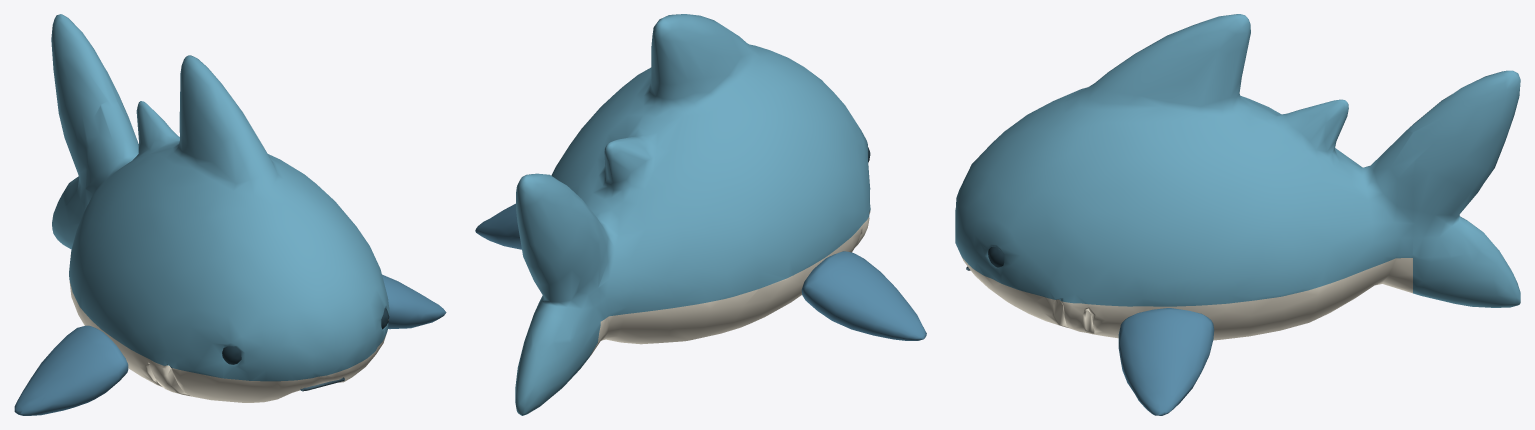
Rendered from shark.glb.
3 renders of one model, left to right at view 1: azimuth 30°, elevation 25°; view 2: azimuth 150°, elevation 25°; view 3: azimuth 270°, elevation 25°, orthographic. The views are drawn at different scales.
Visible parts, largest first — view 1: pet-body, pet-fins, pet-belly; view 2: pet-body, pet-fins, pet-belly; view 3: pet-body, pet-belly, pet-fins.
Part boxes in pixels (x1,y1,x2,y2): pet-body: (51,14,389,381); pet-fins: (14,274,446,415); pet-belly: (69,281,388,402); pet-body: (515,14,870,415); pet-fins: (475,203,926,340); pet-belly: (590,211,870,356); pet-body: (955,14,1520,307); pet-belly: (961,256,1412,340); pet-fins: (1118,308,1214,415).
Bounding box in the file's own units: 0.92 × 0.5942 × 1.01.
